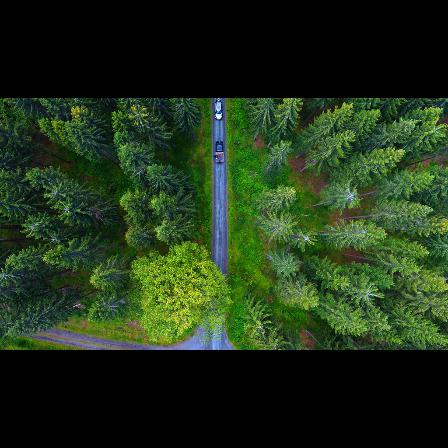Sick: (337, 182, 360, 212), (44, 178, 70, 202), (294, 224, 319, 248), (0, 264, 24, 287), (21, 217, 45, 237), (49, 228, 65, 249), (61, 202, 75, 217)
